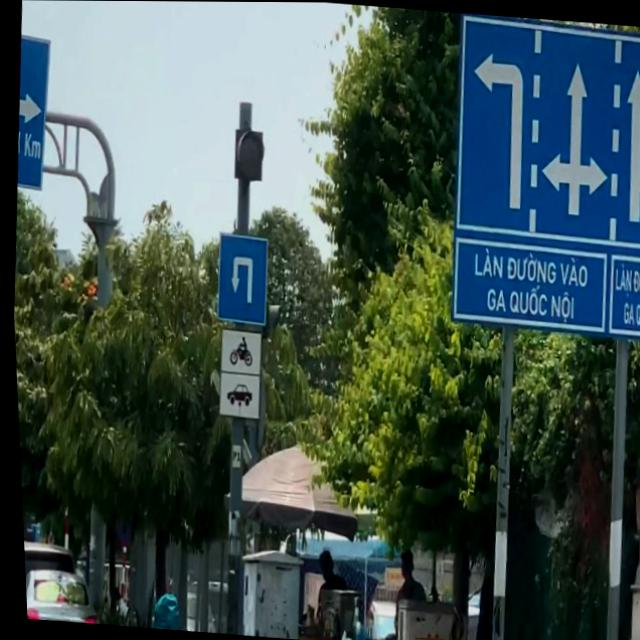Cho quay xe: (210, 230, 270, 327)
